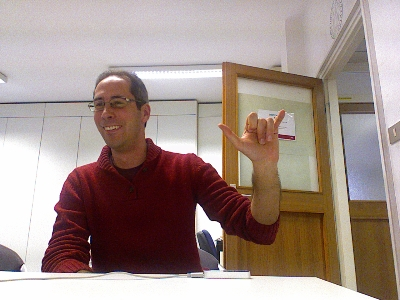六六六: (216, 108, 285, 163)
